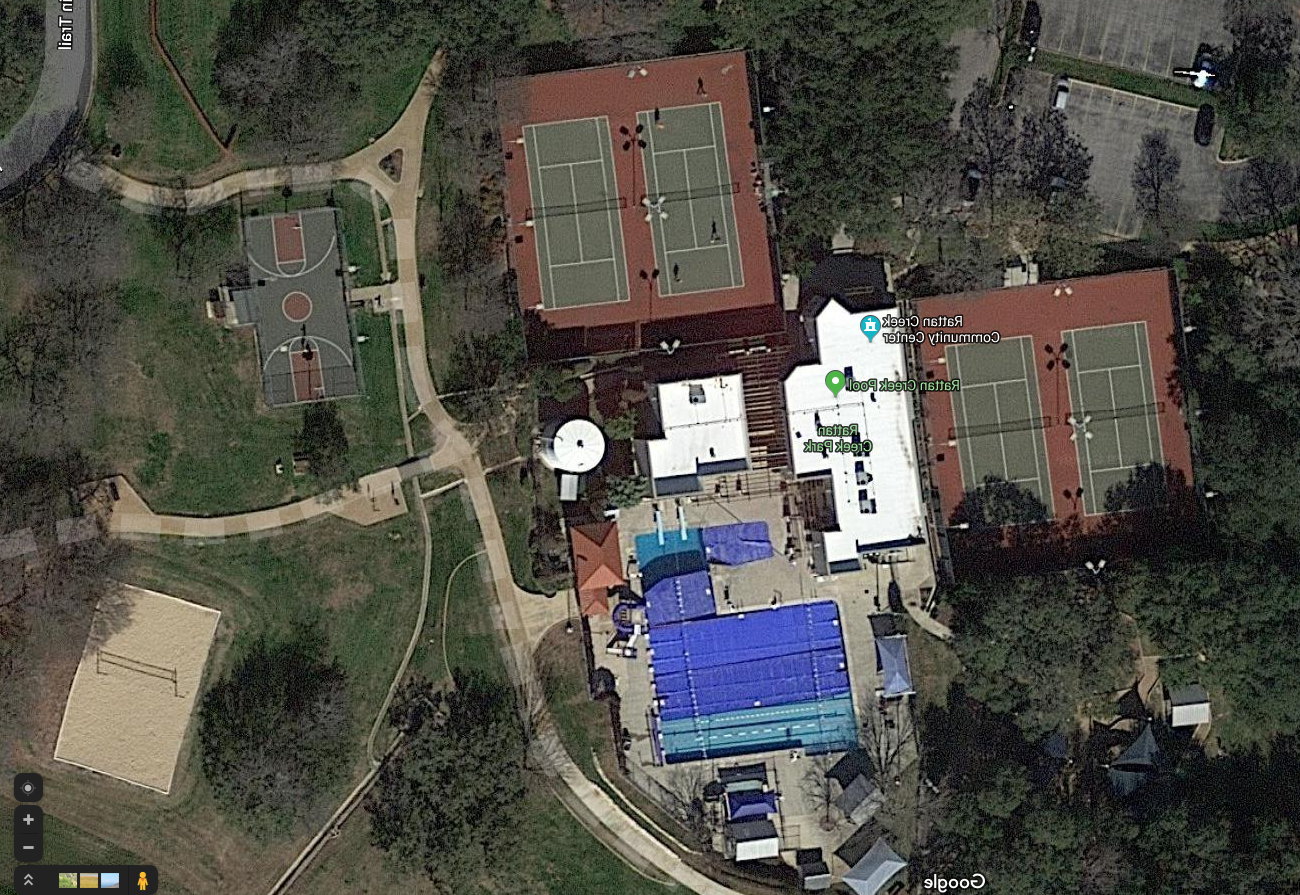basketball: (213, 196, 394, 435)
pool: (641, 624, 887, 773)
tennis: (504, 100, 649, 343), (930, 315, 1070, 551)
